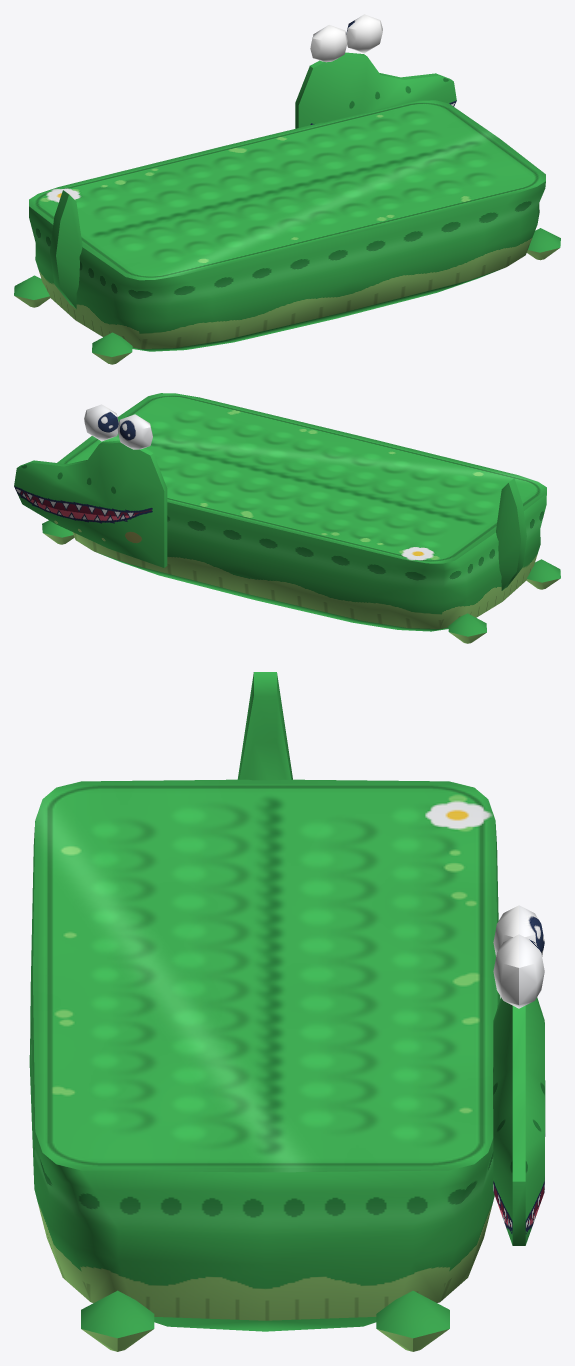
The model's file is pool_croc_float_lod1.glb.
The picture shows the model from 3 angles, top to bottom: view 1: azimuth 30°, elevation 25°; view 2: azimuth 150°, elevation 25°; view 3: azimuth 270°, elevation 25°; orthographic projection. The views are drawn at different scales.
Parts seen in each view (by area): view 1: pool_croc_float_LOD1; view 2: pool_croc_float_LOD1; view 3: pool_croc_float_LOD1.
Part boxes in pixels (box(x1,y1,x2,y2)): pool_croc_float_LOD1: box(14, 14, 560, 364); pool_croc_float_LOD1: box(14, 393, 560, 643); pool_croc_float_LOD1: box(29, 672, 545, 1351).
Size of the model in its own units: 16 by 6 by 8.03.
1 material, 1 textured.
